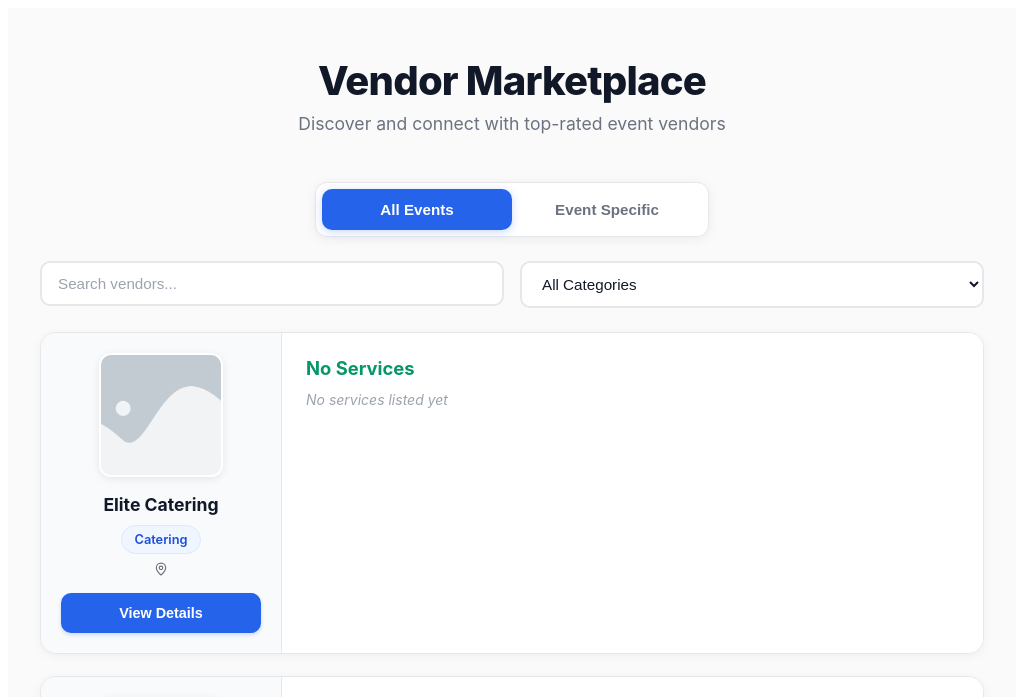
Test: PlannerVendorMarketplace › filters vendors by category
Expected: the heading "Elite Catering" is shown, [103,494,219,515]
Select "Photography" in the dropdown at x=752, y=284, box [520,261,984,308]
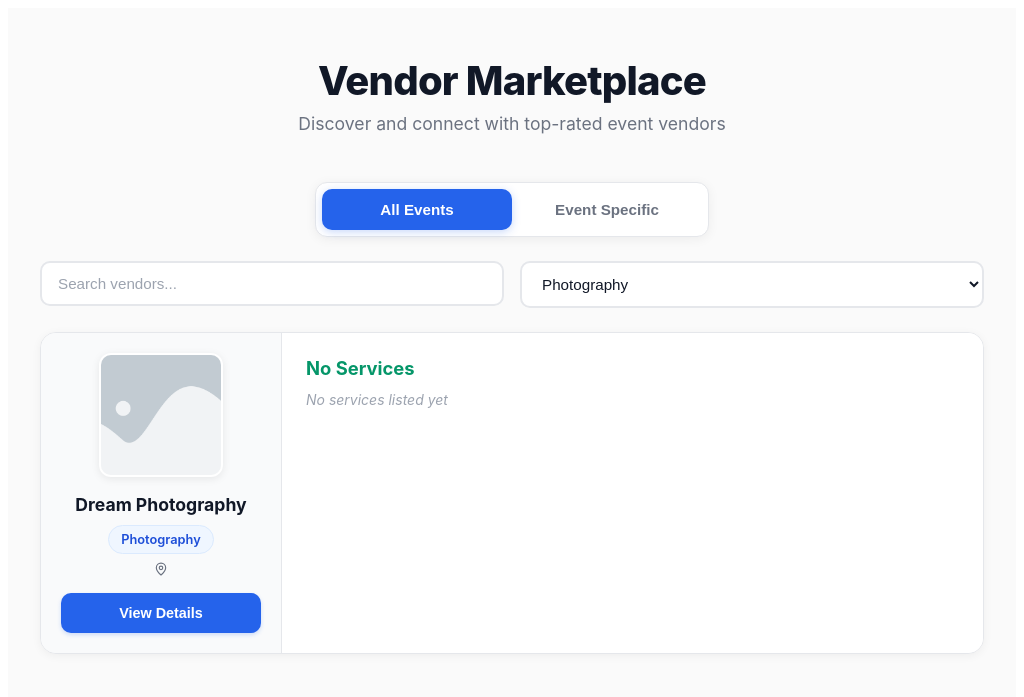
Expected: the heading "Dream Photography" is shown, [61,494,261,517]
Now the heading "Elite Catering" is gone
